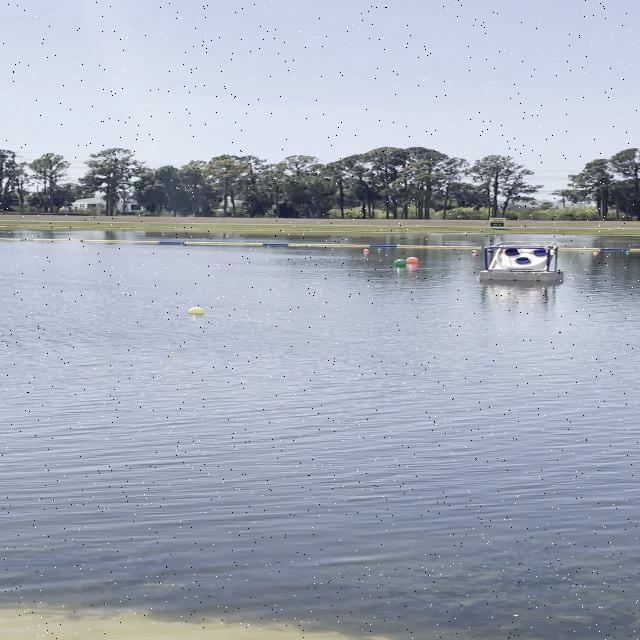buoy: (188, 306, 208, 317), (392, 258, 407, 266), (407, 256, 419, 264)
